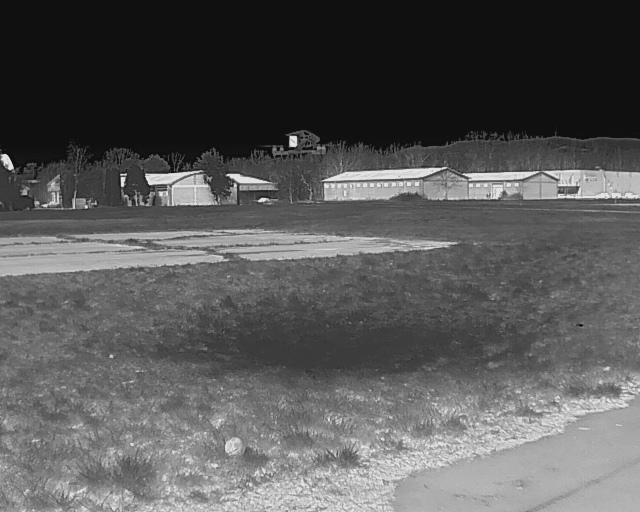drone: (253, 126, 346, 175)
